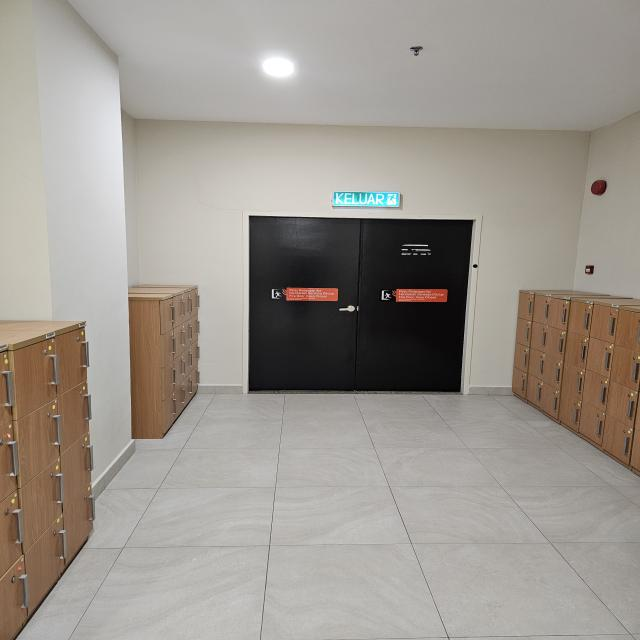door: (246, 214, 476, 394)
footpath: (135, 449, 502, 640)
obstacle: (0, 323, 101, 606), (510, 276, 640, 463), (122, 274, 204, 442)
